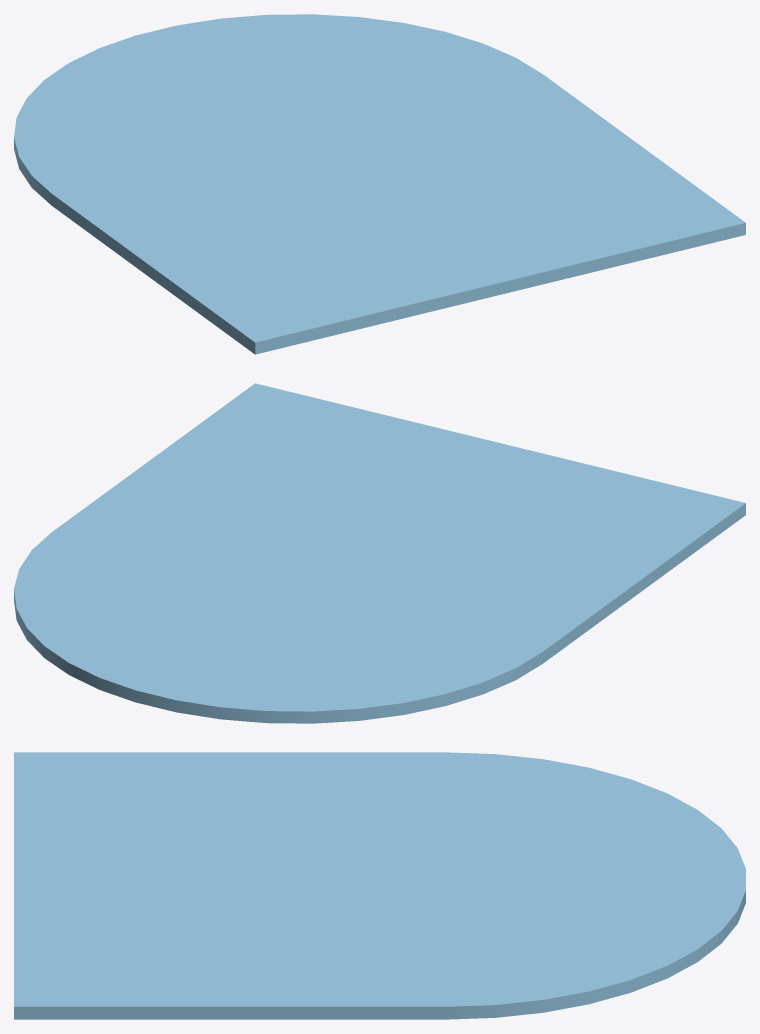
The model's file is mms-chassies.dae.
The picture shows the model from 3 angles, top to bottom: view 1: azimuth 30°, elevation 25°; view 2: azimuth 150°, elevation 25°; view 3: azimuth 270°, elevation 25°; orthographic projection. The views are drawn at different scales.
Parts seen in each view (by area): view 1: ID2; view 2: ID2; view 3: ID2.
Part boxes in pixels (bbox=[...]): ID2: bbox=[14, 14, 745, 354]; ID2: bbox=[14, 383, 745, 723]; ID2: bbox=[14, 752, 745, 1019].
Size of the model in its own units: 0.085 by 0.1034 by 0.002.
